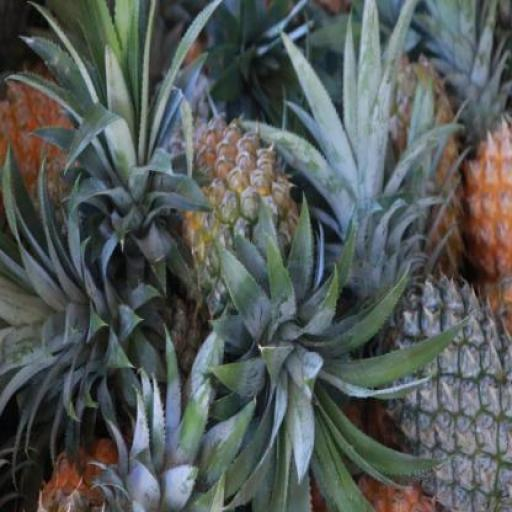------------------------------: (170, 116, 309, 327)
